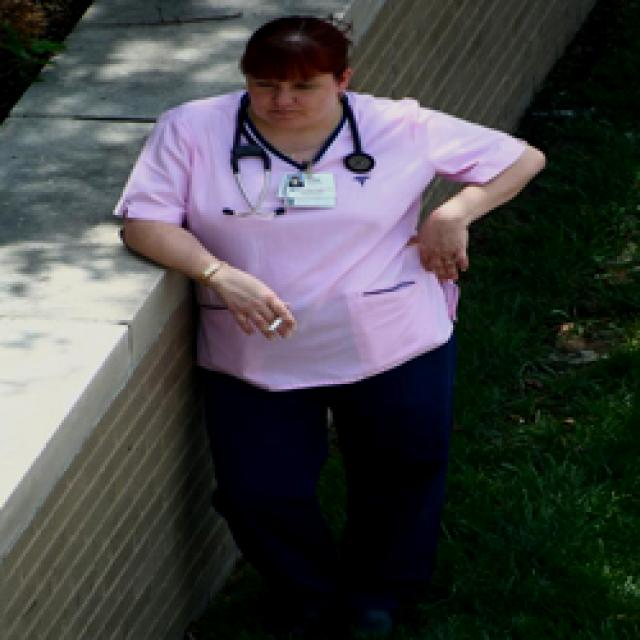Smooking: (263, 308, 289, 339)
